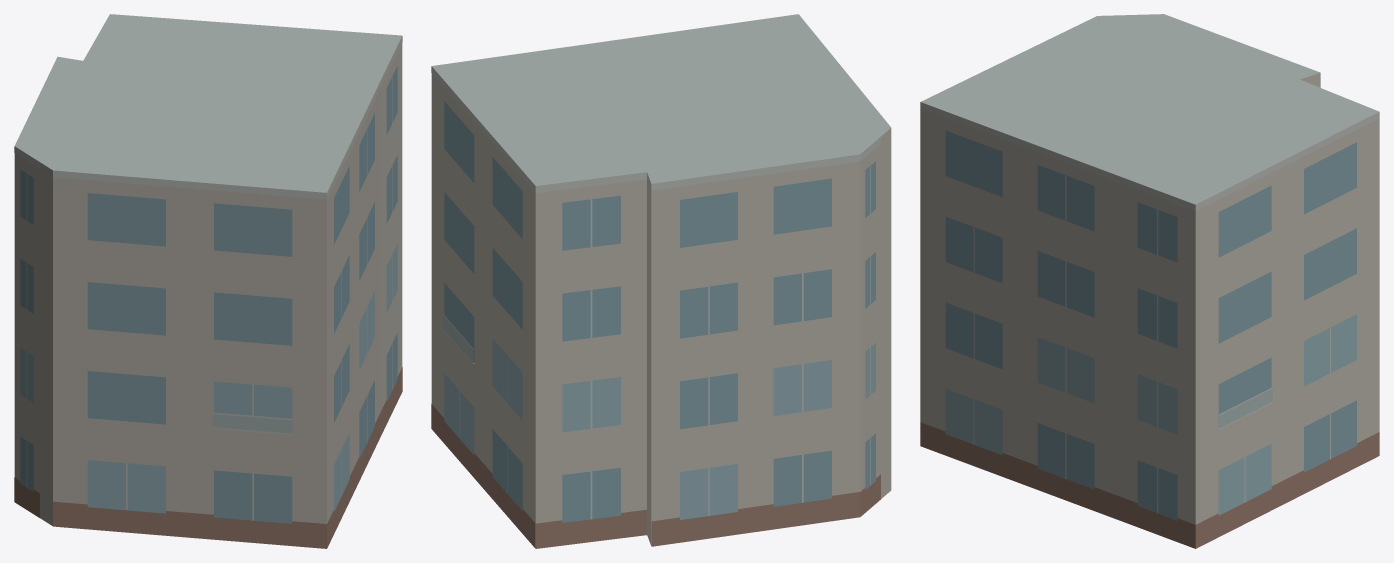
File: survey-upis-32622488.glb
3 views of the same model, side by side, from view 1: azimuth 30°, elevation 25°; view 2: azimuth 150°, elevation 25°; view 3: azimuth 270°, elevation 25° (orthographic). The views are drawn at different scales.
Parts seen in each view (by area): view 1: survey-upis-32622488.tmp; view 2: survey-upis-32622488.tmp; view 3: survey-upis-32622488.tmp.
Part boxes in pixels (box(x1,y1,x2,y2)): survey-upis-32622488.tmp: box(14, 14, 402, 548); survey-upis-32622488.tmp: box(431, 14, 891, 548); survey-upis-32622488.tmp: box(920, 14, 1379, 548).
Bounding box in the file's own units: 15.1 × 12.7 × 15.36.
